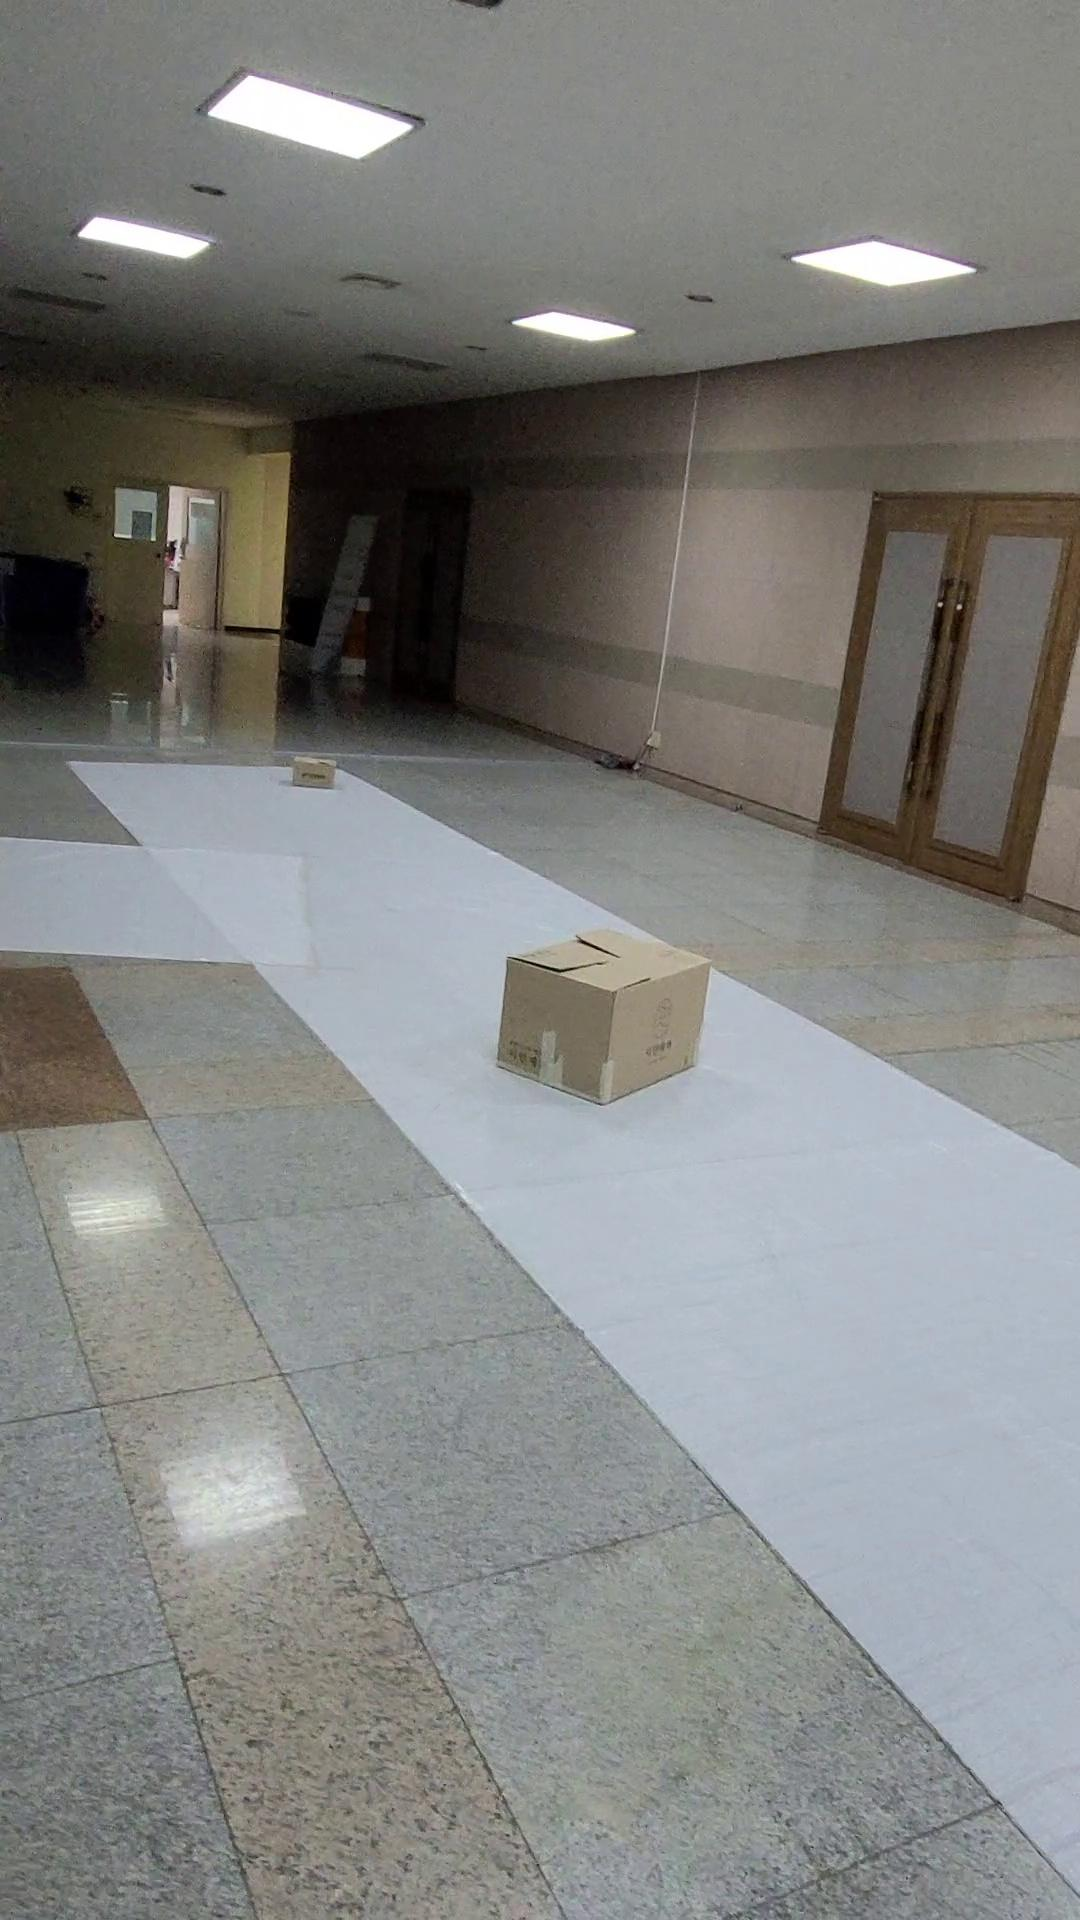Box: (481, 935, 740, 1110), (287, 733, 347, 803)
